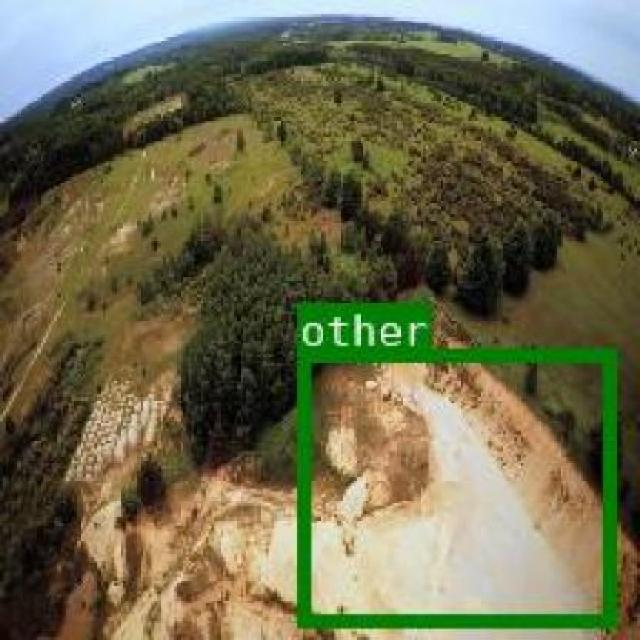other: (294, 346, 612, 623)
